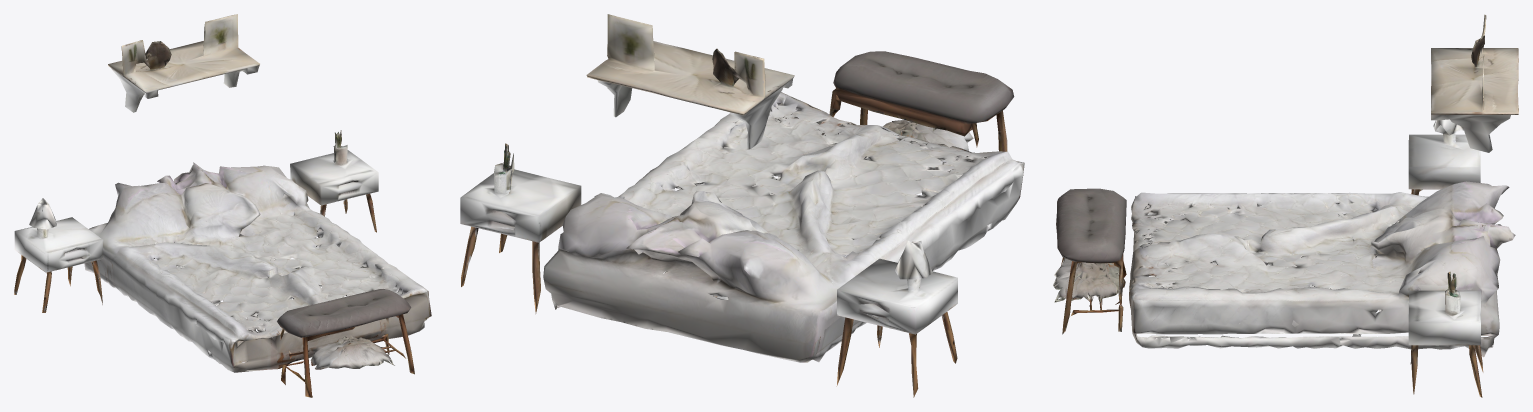
The model's file is Cozy_Bedroom_Retreat_0506162027_texture.glb.
The picture shows the model from 3 angles, left to right: view 1: azimuth 30°, elevation 25°; view 2: azimuth 150°, elevation 25°; view 3: azimuth 270°, elevation 25°; orthographic projection. The views are drawn at different scales.
Size of the model in its own units: 1.91 by 1.27 by 1.99.
Materials: 1 (1 with a texture image).
